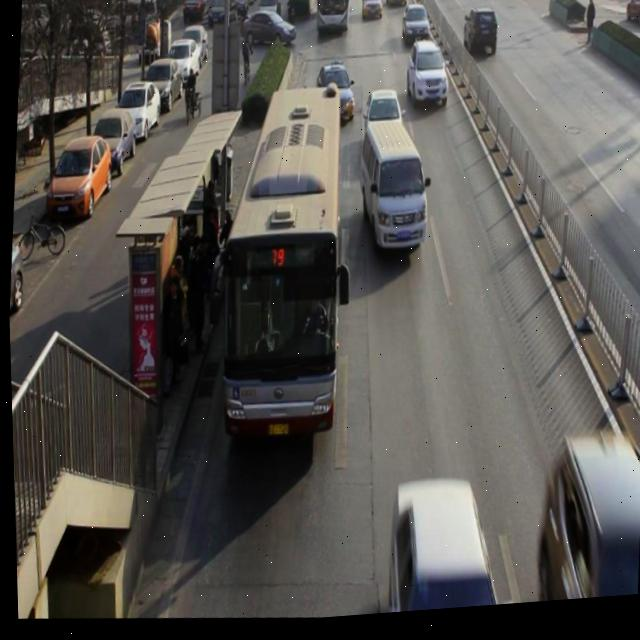car: (539, 448, 640, 609), (383, 487, 500, 618), (403, 48, 450, 114), (314, 67, 358, 132), (361, 95, 403, 159), (457, 15, 502, 70), (401, 14, 431, 51), (360, 0, 384, 28), (385, 0, 408, 18)
truck: (353, 130, 433, 272)
van: (206, 89, 355, 453), (313, 0, 350, 40)
